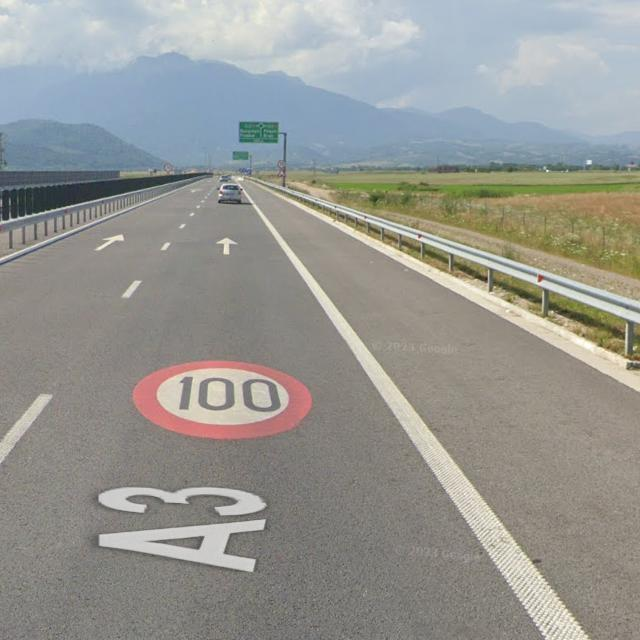forb_speed_over_100: (134, 359, 316, 441)
